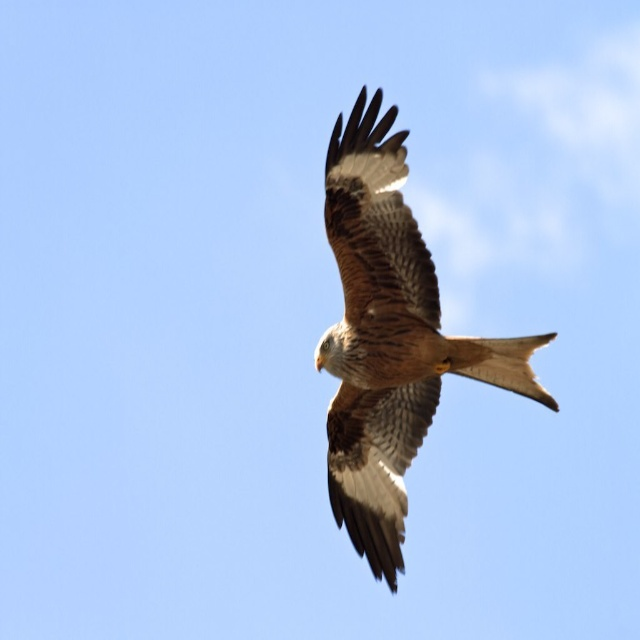Eagle: (314, 83, 560, 595)
